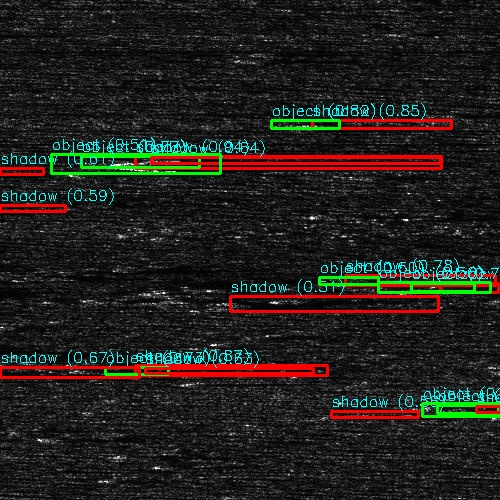rock: (48, 362, 235, 379), (90, 154, 183, 169), (393, 280, 498, 291), (321, 121, 384, 130), (316, 410, 379, 415), (61, 265, 124, 270), (256, 295, 319, 300)
shadow: (137, 154, 389, 169), (142, 362, 349, 379), (353, 121, 500, 130), (93, 265, 245, 270), (446, 280, 500, 291), (0, 369, 52, 380), (348, 410, 457, 415), (288, 295, 396, 300), (0, 206, 77, 213), (0, 168, 74, 175), (0, 28, 30, 39), (0, 286, 24, 297), (0, 258, 20, 269)
